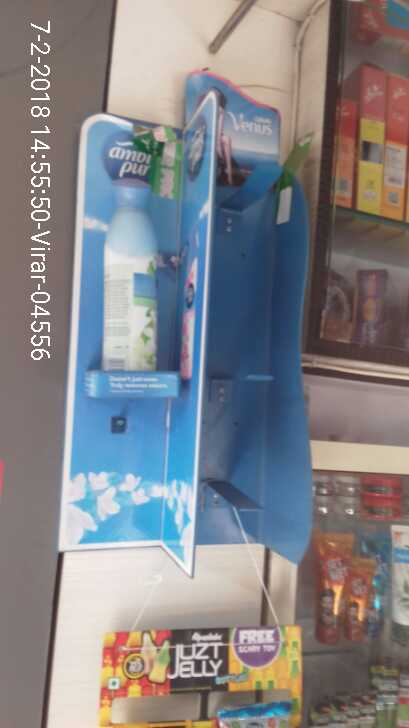home: (101, 170, 157, 373)
